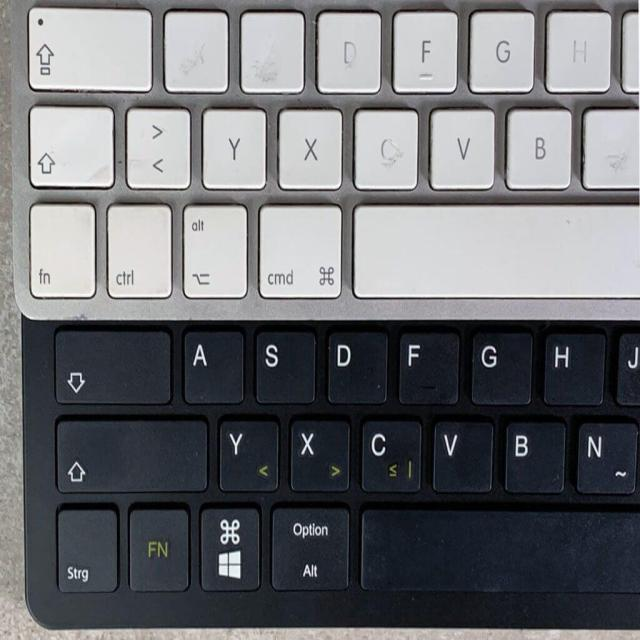a: (160, 6, 231, 94), (180, 327, 246, 406)
alt-left: (266, 502, 352, 592), (179, 200, 251, 302)
b: (504, 103, 575, 189), (501, 416, 567, 493)
c: (350, 105, 421, 191), (358, 416, 424, 494)
d: (313, 5, 383, 96), (323, 327, 390, 406)
f: (388, 5, 460, 95), (395, 328, 461, 406)
g: (465, 4, 537, 95), (466, 328, 534, 406)
h: (542, 4, 613, 93), (539, 328, 605, 406)
keyboard: (7, 1, 639, 318), (17, 318, 634, 633)
less: (122, 102, 193, 191)
n: (573, 416, 637, 495)
s: (236, 6, 306, 96), (251, 327, 317, 406)
shift-left: (53, 414, 211, 493), (25, 102, 117, 191)
shift-lock: (25, 1, 156, 93), (49, 326, 173, 405)
space: (348, 198, 638, 302), (356, 502, 637, 594)
strg-left: (102, 199, 174, 301), (53, 503, 121, 597)
v: (426, 103, 497, 190), (429, 416, 494, 492)
x: (274, 104, 344, 191), (286, 415, 351, 493)
y: (198, 103, 268, 192), (215, 415, 281, 492)
